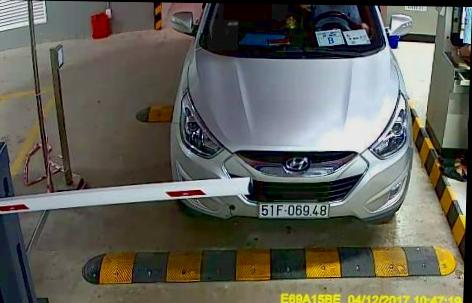License_Plate: (257, 197, 331, 223)
